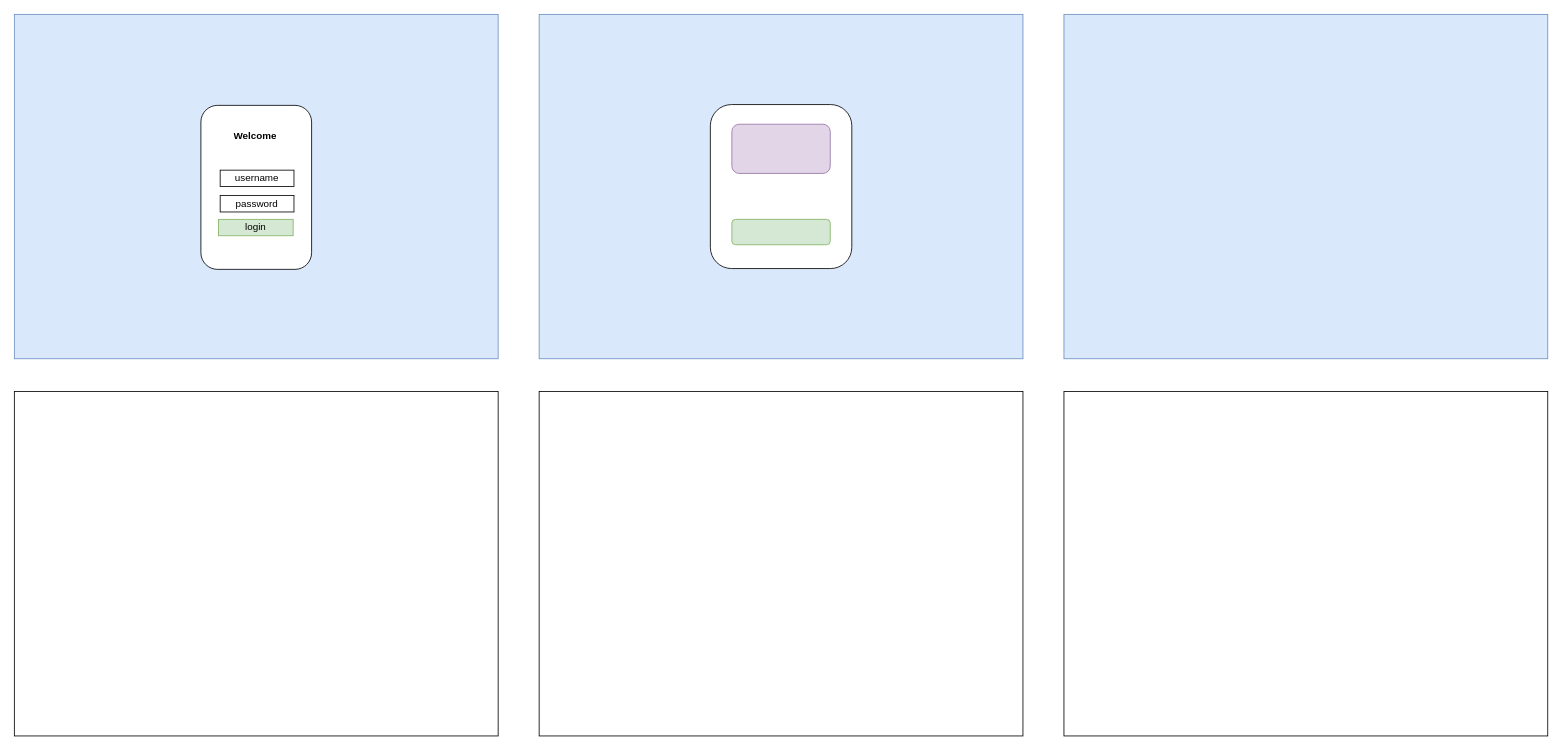
This 1562x750 diagram has some shape labels left out. Here are the shapes that lost their labels. From the top down, the centre of each, then its label:
point 780,148: JIRA auth
point 780,232: Authorize
